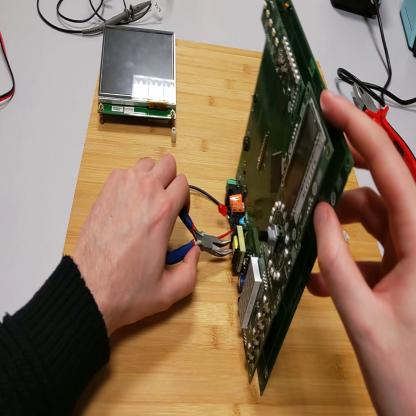hand: (311, 92, 416, 416), (79, 152, 200, 330)
low voltage board: (189, 2, 355, 396), (98, 24, 178, 125)
oscilloscope probe tip: (82, 2, 152, 35)
pliers: (356, 80, 416, 181), (165, 206, 232, 264)
welder base: (402, 2, 416, 56)
welder station: (332, 1, 383, 22)
working area: (65, 41, 384, 415)
